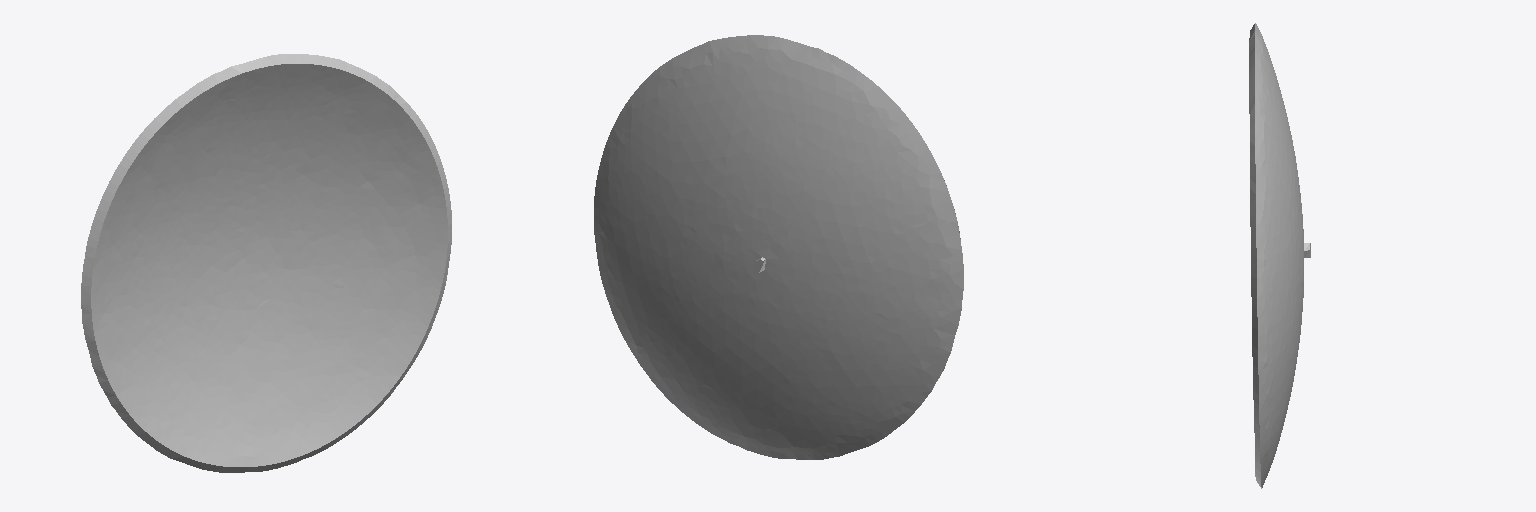
File: Amulet_July_Disk_18.obj
3 views of the same model, side by side, from view 1: azimuth 30°, elevation 25°; view 2: azimuth 150°, elevation 25°; view 3: azimuth 270°, elevation 25° (orthographic).
Bounding box in the file's own units: 22.92 × 24.73 × 3.3.